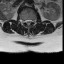CCS_normal: (27, 16, 29, 27)
LFS_normal: (32, 17, 34, 24)
LLS_normal: (29, 17, 32, 25)
RFS_stenosis: (22, 17, 24, 25)
RLS_normal: (24, 17, 27, 26)
